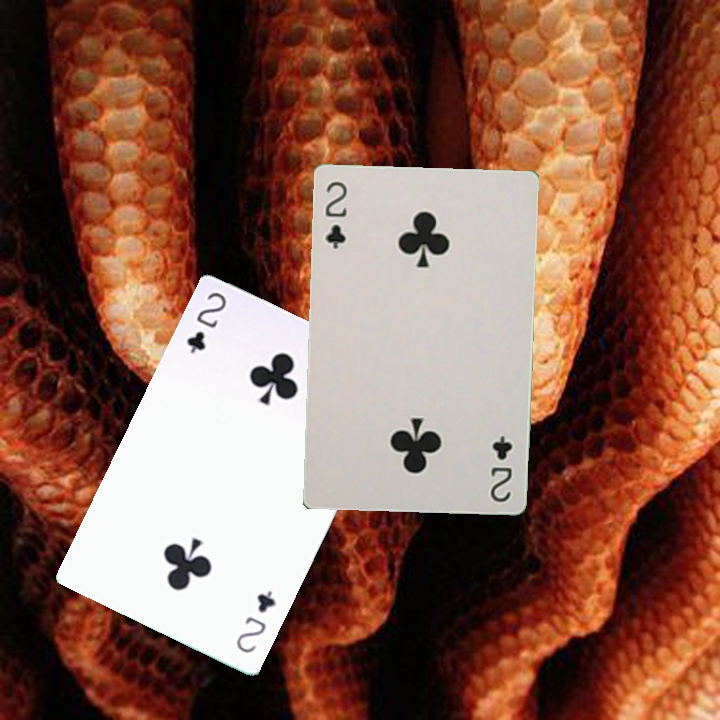2c: (232, 586, 279, 656), (182, 288, 229, 357), (321, 177, 350, 252), (486, 431, 515, 504)
